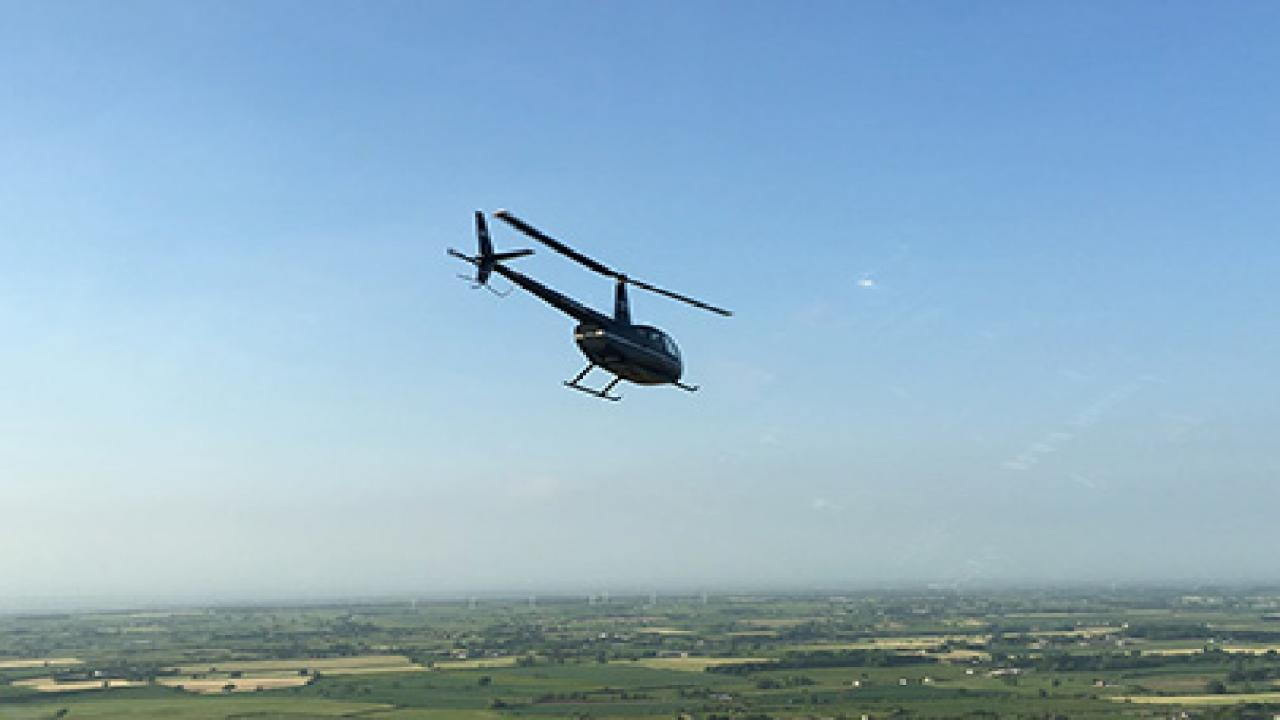Helicopter: (440, 202, 735, 409)
